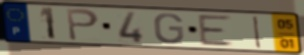1: (39, 6, 57, 42)
4: (117, 10, 146, 44)
E: (196, 14, 236, 48)
G: (153, 12, 186, 45)
I: (252, 15, 263, 50)
P: (64, 7, 101, 42)
